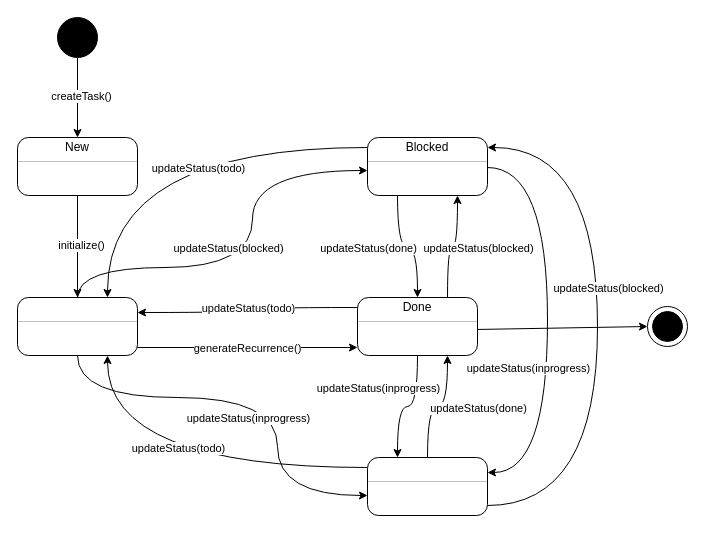
This 705x533 diagram has some shape labels left out. The centre of each missing label's shape, as x and y in pixels:
"InProgress" goes at pixel 427 486.
"Todo" goes at pixel 77 326.
